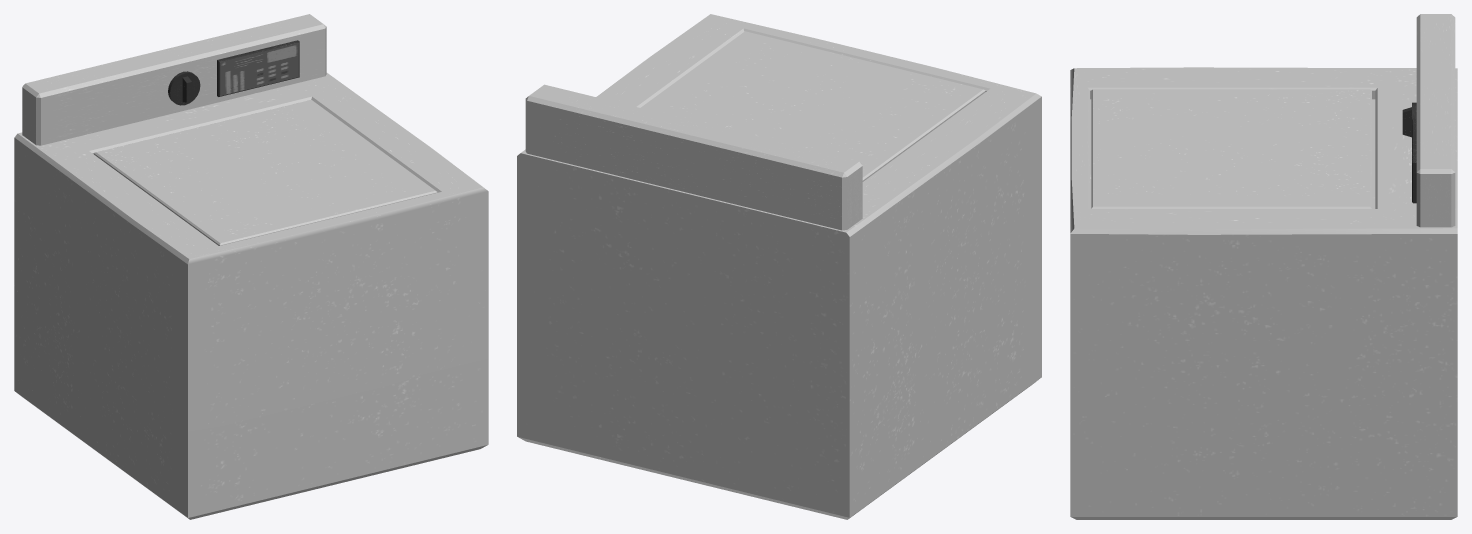
File: TexturedWashingMachine.fbx
3 views of the same model, side by side, from view 1: azimuth 30°, elevation 25°; view 2: azimuth 150°, elevation 25°; view 3: azimuth 270°, elevation 25° (orthographic). The views are drawn at different scales.
Parts seen in each view (by area): view 1: pCube1, pCube5, pCube3, pCube4, pCylinder3; view 2: pCube1, pCube5, pCube3; view 3: pCube1, pCube5, pCube3.
Part boxes in pixels (x1=…): pCube1: x1=14, y1=73, x2=488, y2=519; pCube5: x1=94, y1=100, x2=437, y2=245; pCube3: x1=22, y1=14, x2=326, y2=145; pCube4: x1=217, y1=40, x2=299, y2=96; pCylinder3: x1=168, y1=71, x2=200, y2=105; pCube1: x1=517, y1=14, x2=1041, y2=519; pCube5: x1=640, y1=31, x2=985, y2=181; pCube3: x1=525, y1=84, x2=862, y2=230; pCube1: x1=1070, y1=67, x2=1457, y2=519; pCube5: x1=1091, y1=89, x2=1371, y2=208; pCube3: x1=1416, y1=14, x2=1455, y2=227.
Bounding box in the file's own units: 6 × 5.97 × 6.
3 materials, 3 textured.
